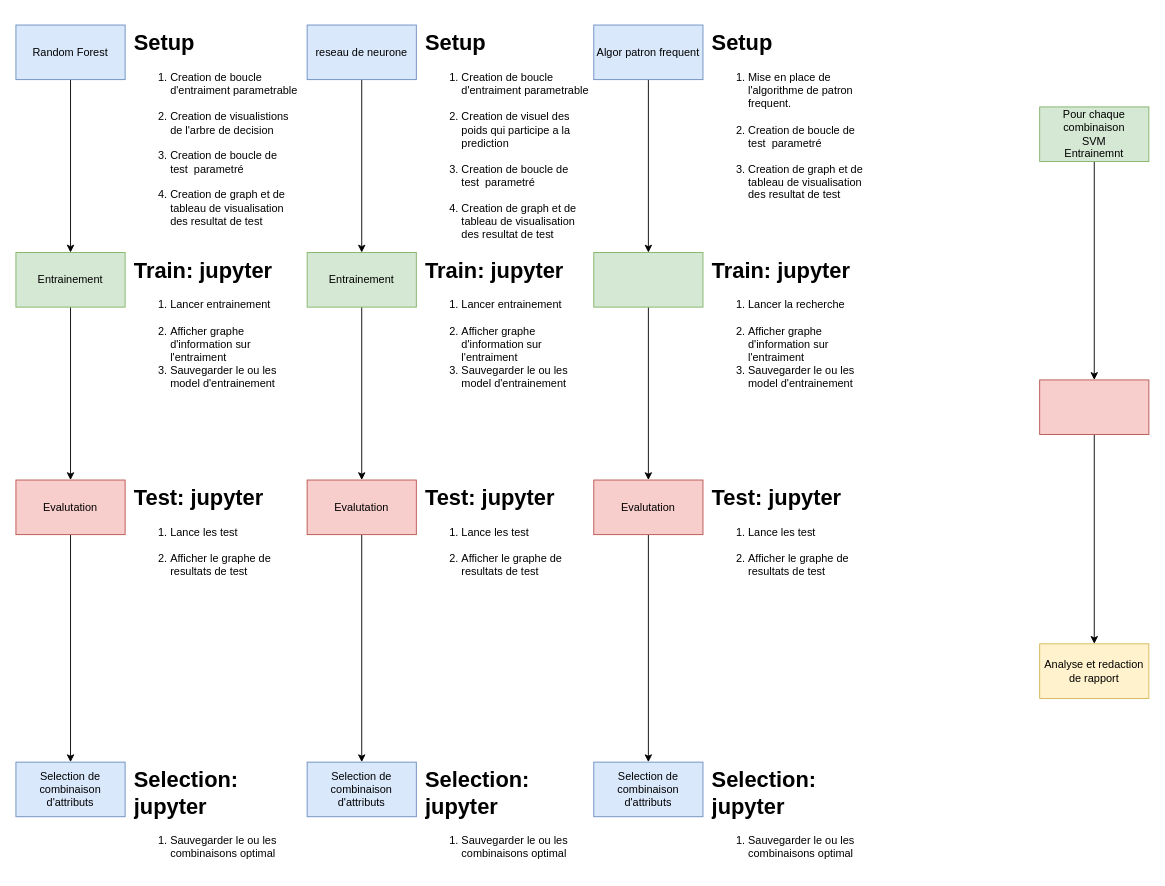
Image size: 1165x886. Some labels were removed from this diagram. Each missing label, with the box of its shape:
Evaluation: (1039, 379, 1149, 435)
Recherche patron: (593, 252, 703, 307)
